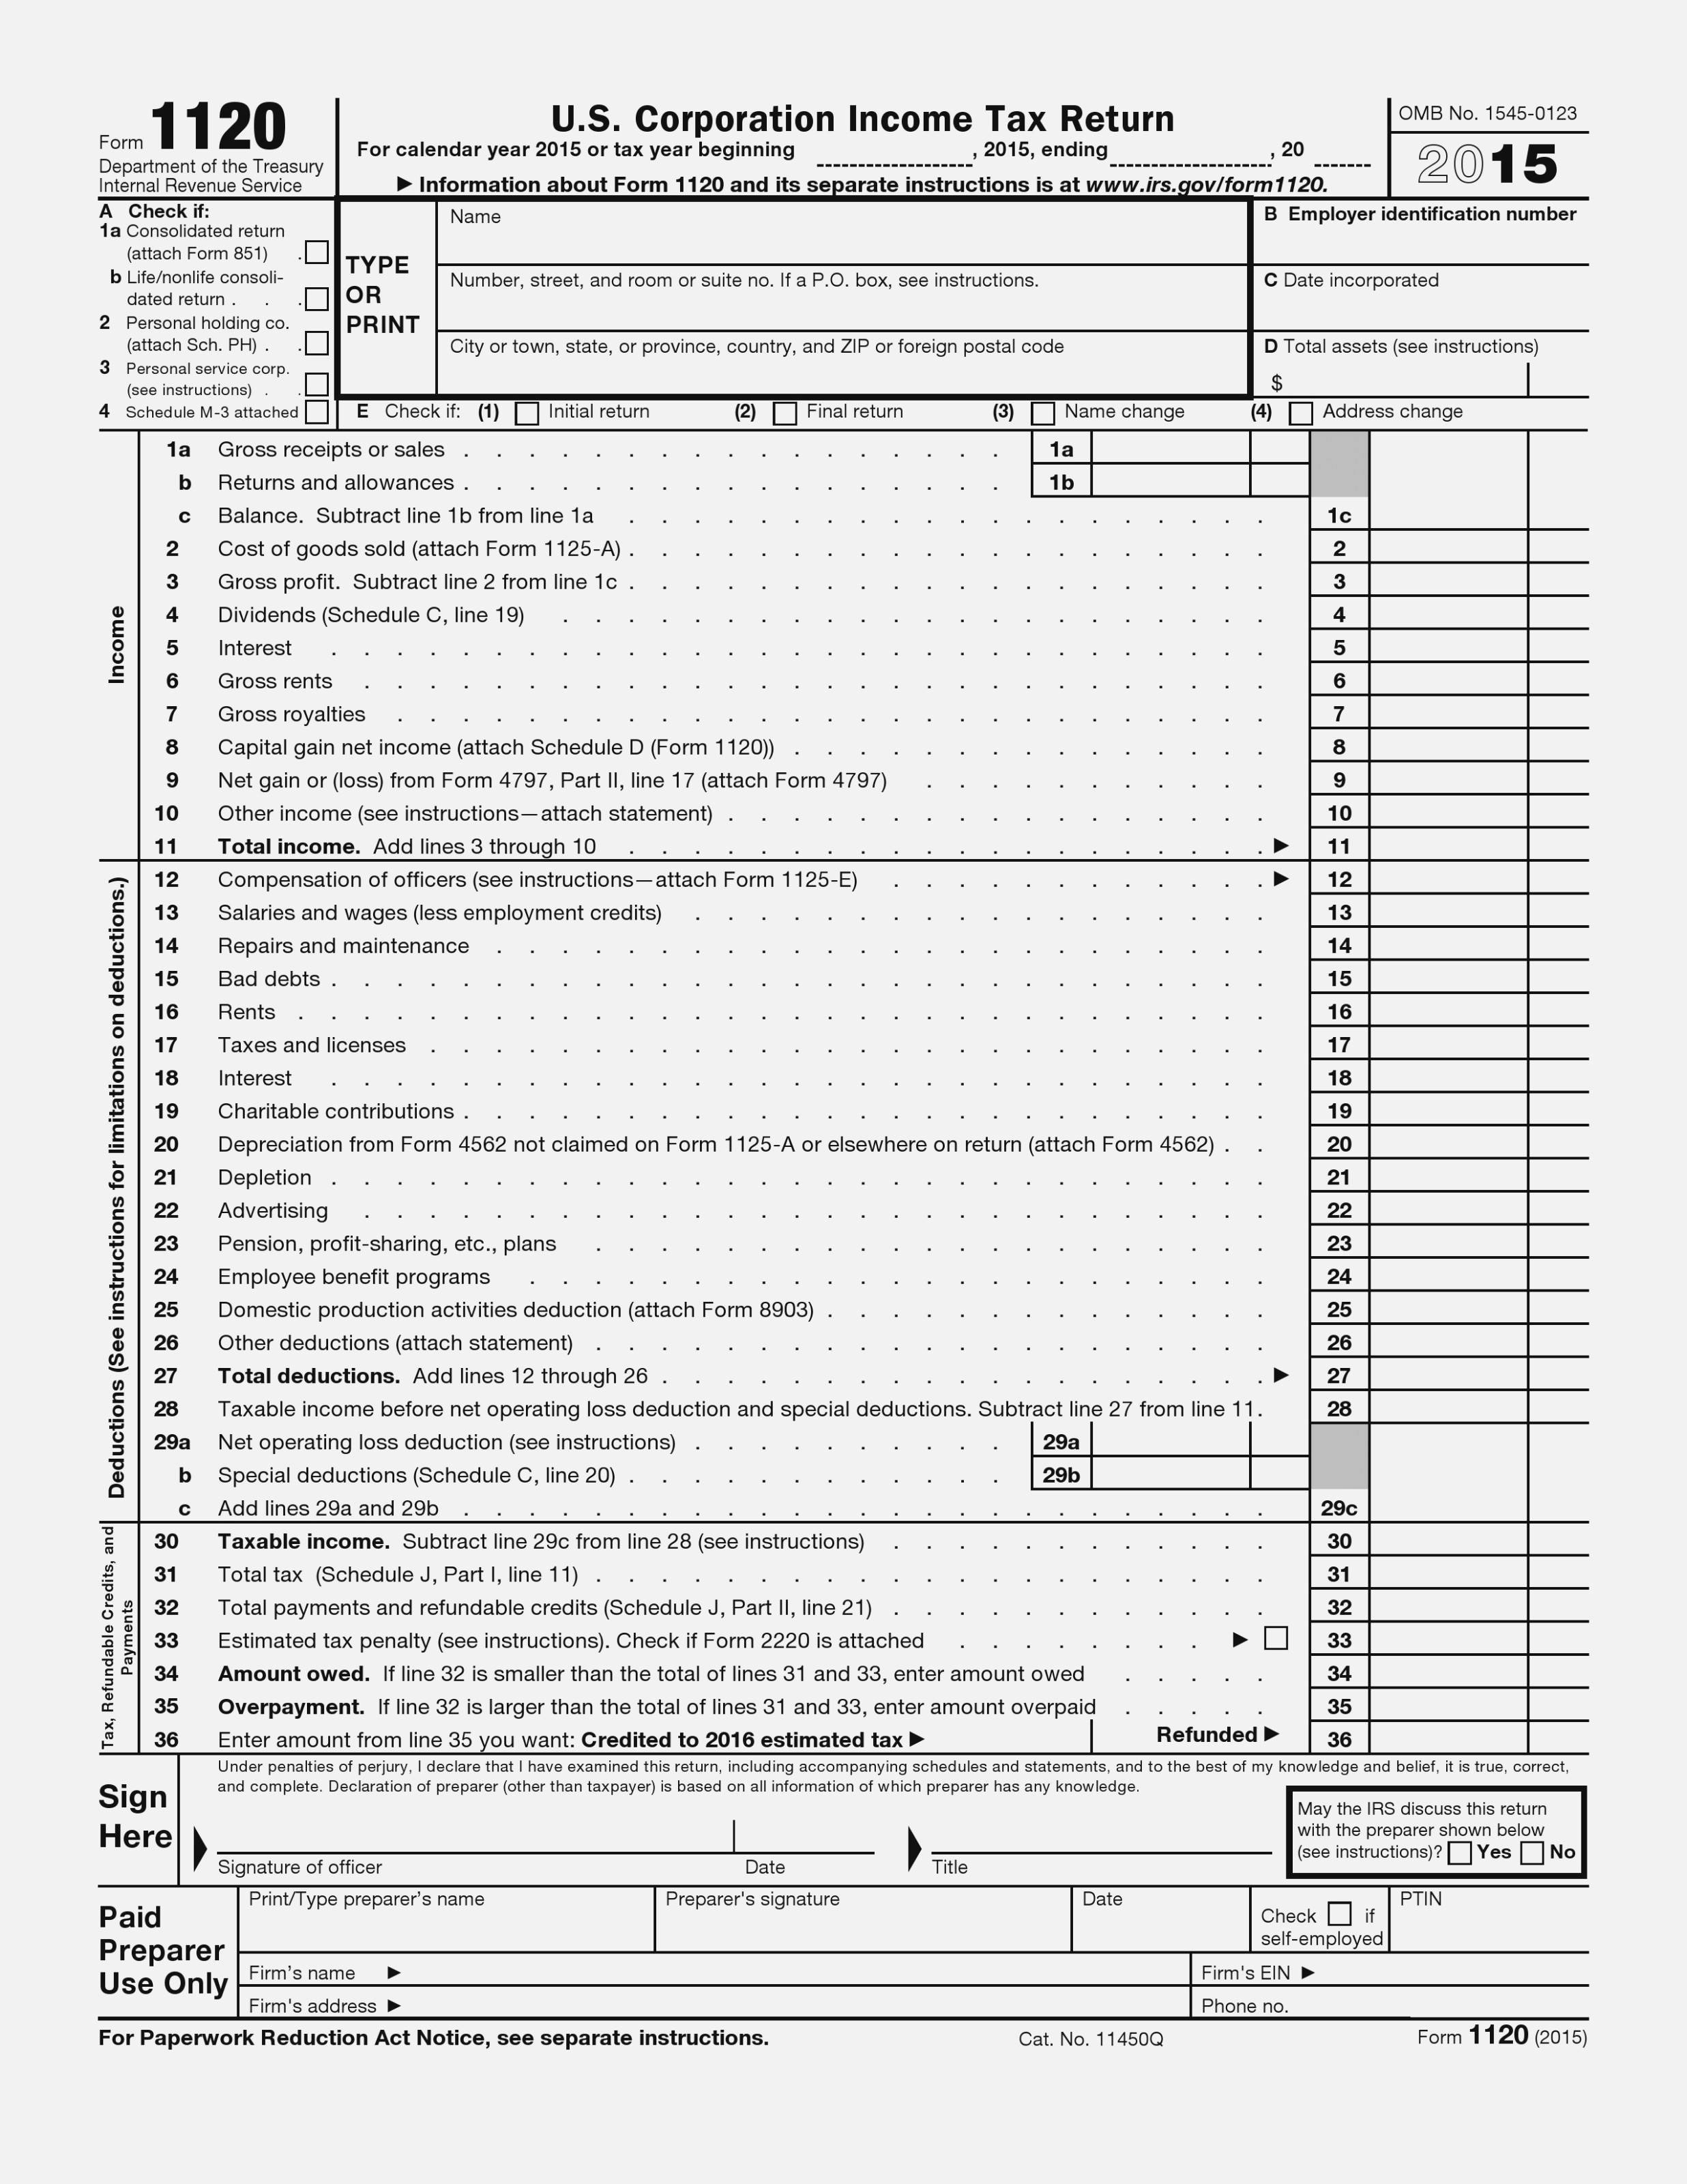checkbox: (512, 395, 542, 429), (301, 234, 330, 268), (303, 284, 331, 317), (303, 326, 331, 360), (303, 367, 331, 401), (303, 394, 331, 427), (771, 394, 799, 427), (1030, 394, 1058, 427), (1288, 394, 1317, 427), (1262, 1618, 1290, 1652), (1446, 1835, 1474, 1868), (1519, 1833, 1547, 1867), (1326, 1895, 1354, 1929)
textbox: (429, 257, 1260, 339), (429, 319, 1260, 399), (431, 191, 1260, 271), (377, 1980, 1198, 2024), (379, 1946, 1198, 1991), (232, 1879, 663, 1961), (647, 1879, 1077, 1961), (1237, 190, 1600, 273), (1240, 255, 1604, 339), (1239, 324, 1535, 402), (1361, 1413, 1538, 1530), (1361, 424, 1538, 537), (1379, 1877, 1607, 1964), (1065, 1876, 1253, 1961), (1294, 1945, 1602, 1991), (1297, 1980, 1605, 2024), (1520, 1415, 1604, 1526), (1520, 422, 1598, 535), (1363, 521, 1536, 567), (1363, 787, 1536, 833), (1363, 1051, 1536, 1097), (1363, 1085, 1536, 1131), (1363, 1150, 1536, 1197), (1363, 1184, 1536, 1230), (1363, 1381, 1536, 1427), (1363, 1647, 1536, 1693), (1086, 422, 1258, 468), (1086, 456, 1258, 502), (1364, 589, 1536, 635), (1364, 654, 1536, 700), (1363, 690, 1535, 736), (1363, 720, 1535, 766), (1363, 853, 1535, 899), (1364, 1119, 1536, 1165), (1363, 1315, 1535, 1361), (1363, 1514, 1535, 1560), (1363, 1548, 1535, 1594), (1364, 1714, 1536, 1760), (1363, 557, 1536, 601), (1363, 753, 1536, 798), (1363, 821, 1536, 865), (1361, 920, 1535, 964), (1361, 987, 1535, 1032), (1363, 1252, 1536, 1296), (1361, 1351, 1535, 1395), (1363, 1615, 1536, 1659), (1364, 622, 1536, 667), (1363, 886, 1535, 931), (1361, 954, 1533, 998), (1363, 1019, 1535, 1064), (1364, 1218, 1536, 1262), (1363, 1283, 1535, 1328), (1363, 1581, 1535, 1626), (1364, 1682, 1536, 1727), (1085, 1416, 1256, 1461), (1083, 1452, 1255, 1496), (1524, 349, 1600, 404), (1520, 555, 1602, 604), (1522, 1282, 1604, 1331), (1519, 1512, 1600, 1562), (1239, 1445, 1320, 1494), (1520, 619, 1600, 668), (1520, 684, 1600, 734), (1522, 785, 1602, 835), (1522, 821, 1602, 870), (1524, 916, 1604, 966), (1522, 1018, 1602, 1067), (1520, 1049, 1600, 1099), (1520, 1647, 1600, 1696), (1522, 1681, 1602, 1730), (1239, 1411, 1318, 1461), (1520, 752, 1602, 799), (1520, 1085, 1602, 1133), (1520, 1150, 1602, 1198), (1522, 1218, 1604, 1266), (1520, 1248, 1602, 1296), (1522, 1315, 1604, 1363), (1520, 1712, 1602, 1760), (1520, 521, 1600, 569), (1520, 587, 1600, 635), (1520, 652, 1600, 700), (1520, 720, 1600, 768), (1524, 817, 1604, 865), (1520, 853, 1600, 901), (1522, 888, 1602, 936), (1524, 952, 1604, 1000), (1522, 982, 1602, 1030), (1522, 1117, 1602, 1165), (1522, 1347, 1602, 1395), (1520, 1381, 1600, 1429), (1520, 1581, 1600, 1629), (1520, 1617, 1600, 1665), (1244, 420, 1317, 470), (1246, 457, 1318, 507)
textline: (213, 1801, 742, 1858), (925, 1798, 1281, 1858), (921, 1707, 1100, 1764), (725, 1801, 886, 1854), (1104, 136, 1276, 170), (812, 138, 982, 172), (1306, 136, 1380, 172)
